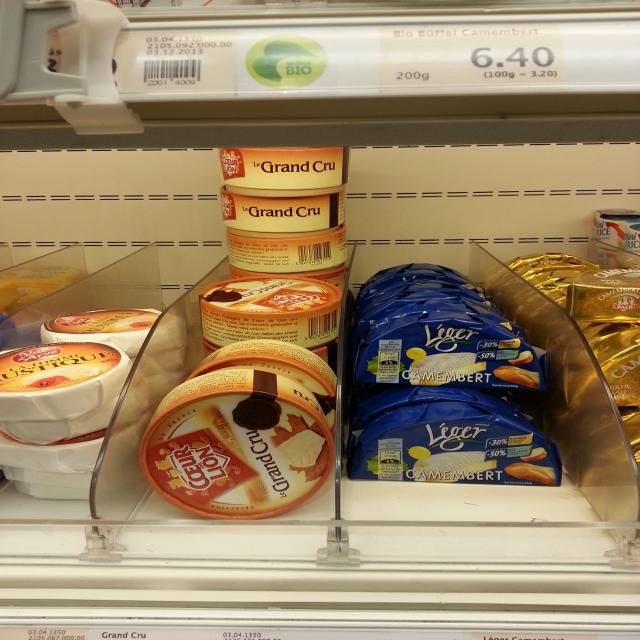Cheese: (141, 368, 335, 522), (350, 399, 562, 486), (356, 307, 550, 390), (200, 274, 340, 352), (0, 341, 133, 419), (38, 307, 186, 356), (217, 145, 352, 188), (222, 226, 348, 272), (220, 186, 345, 232), (570, 268, 640, 322)
